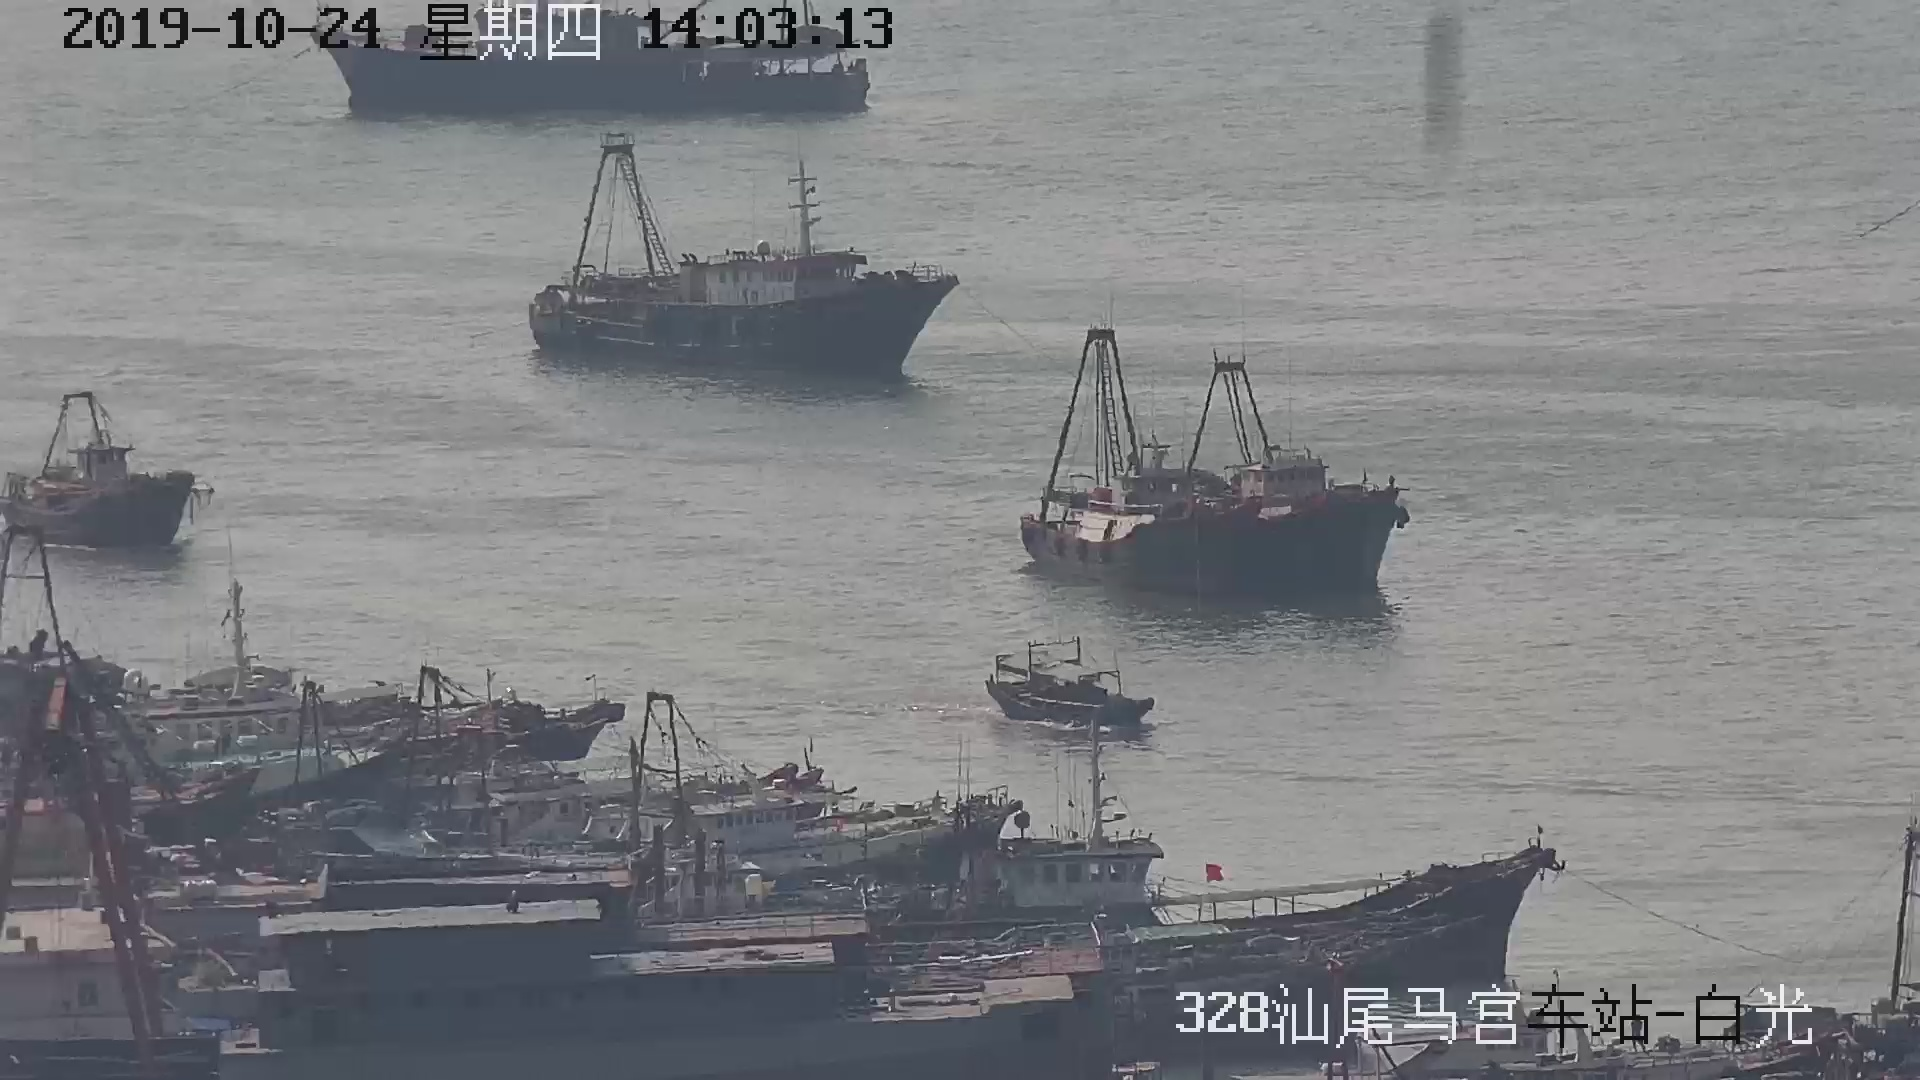ship: (1021, 320, 1399, 622), (534, 142, 960, 375), (311, 7, 873, 120), (3, 390, 210, 550), (986, 636, 1159, 731)
